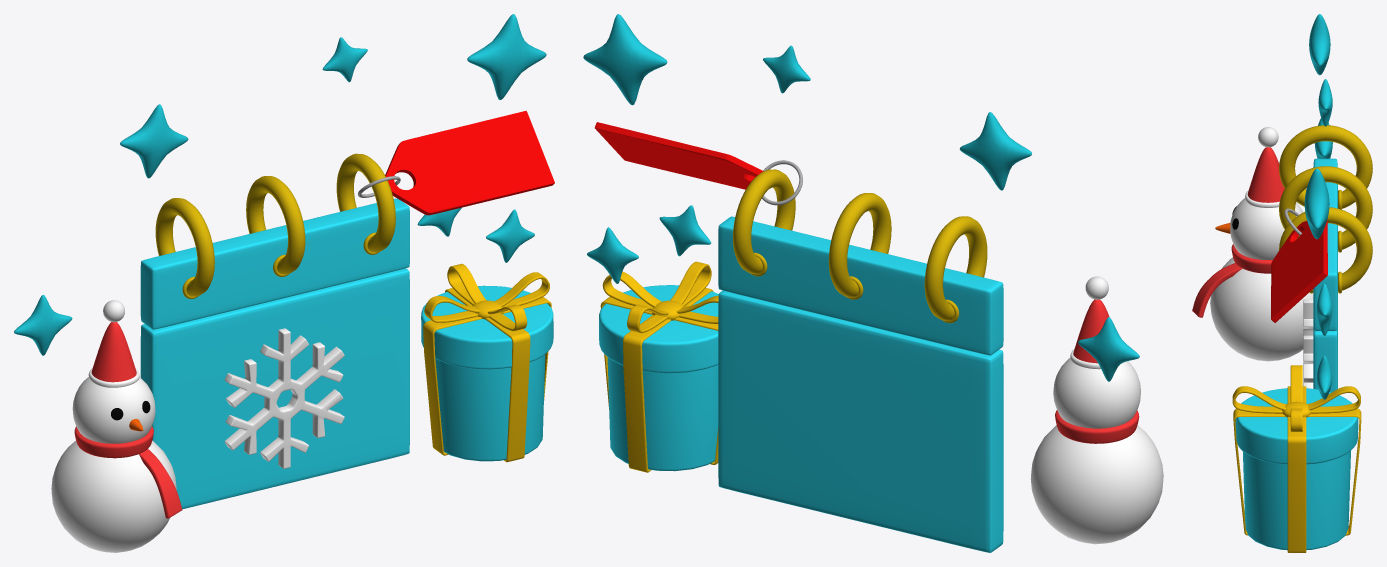
Rendered from shopping-bag-with-sale-tag-1678809972695.glb.
3 renders of one model, left to right at view 1: azimuth 30°, elevation 25°; view 2: azimuth 150°, elevation 25°; view 3: azimuth 270°, elevation 25°, orthographic. The views are drawn at different scales.
Parts seen in each view (by area): view 1: Box033, Cylinder001, Box035, Label, star 2.004, star 2.001, star 009, star 2, star 2.002; view 2: Box033, Cylinder001, Box035, Label, star 2.004, star 2.001, star 009, star 2.003, star 2, star 2.002; view 3: Cylinder001, Box035, Box033, Label, star 2.004, star 2.001, star 2.003, star 2, star 2.002, star 009.
Part boxes in pixels (x1,y1,x2,y2): Box033: (140, 153, 409, 509); Cylinder001: (421, 263, 553, 462); Box035: (51, 300, 182, 552); Label: (358, 110, 554, 215); star 2.004: (467, 14, 546, 99); star 2.001: (120, 104, 188, 178); star 009: (14, 295, 72, 355); star 2: (486, 209, 534, 262); star 2.002: (322, 37, 367, 82); Box033: (718, 169, 1003, 552); Cylinder001: (599, 261, 718, 472); Box035: (1030, 276, 1163, 544); Label: (594, 122, 802, 205); star 2.004: (583, 14, 667, 105); star 2.001: (959, 112, 1031, 190); star 009: (1078, 317, 1139, 381); star 2.003: (659, 205, 711, 256); star 2: (587, 227, 638, 283); star 2.002: (763, 45, 810, 93); Cylinder001: (1232, 365, 1361, 552); Box035: (1192, 127, 1313, 361); Box033: (1279, 125, 1372, 392); Label: (1271, 208, 1327, 322); star 2.004: (1304, 168, 1329, 239); star 2.001: (1309, 14, 1330, 75); star 2.003: (1316, 283, 1332, 335); star 2: (1317, 356, 1332, 399); star 2.002: (1318, 79, 1332, 126); star 009: (1314, 118, 1332, 158).
Size of the model in its own units: 2.27 by 1.76 by 0.7244.
